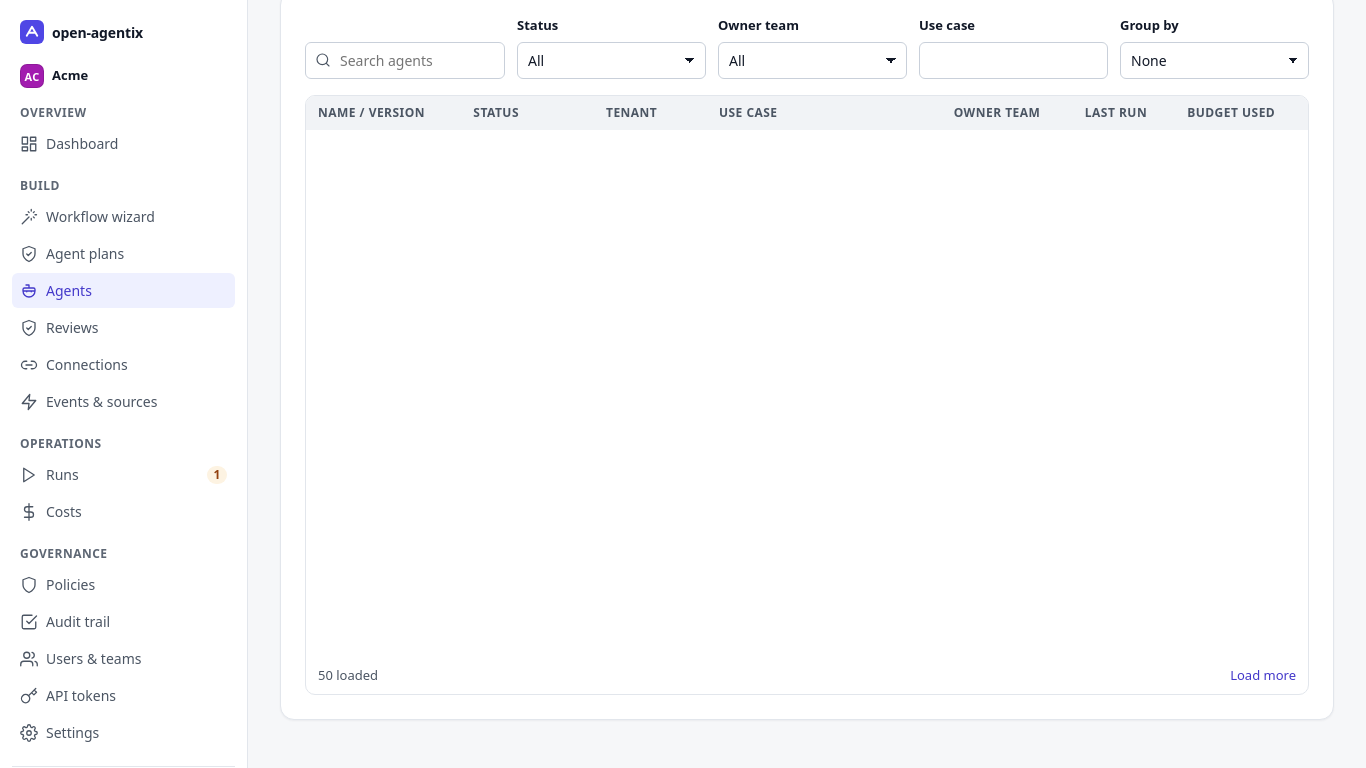
Test: agents list v2: paging, loading, empty and error states › loads more with the keyset cursor
The width and height of the screenshot is (1366, 768).
(page scrolled)
Click the button "Load more": (1263, 675) [1230,666,1296,685]
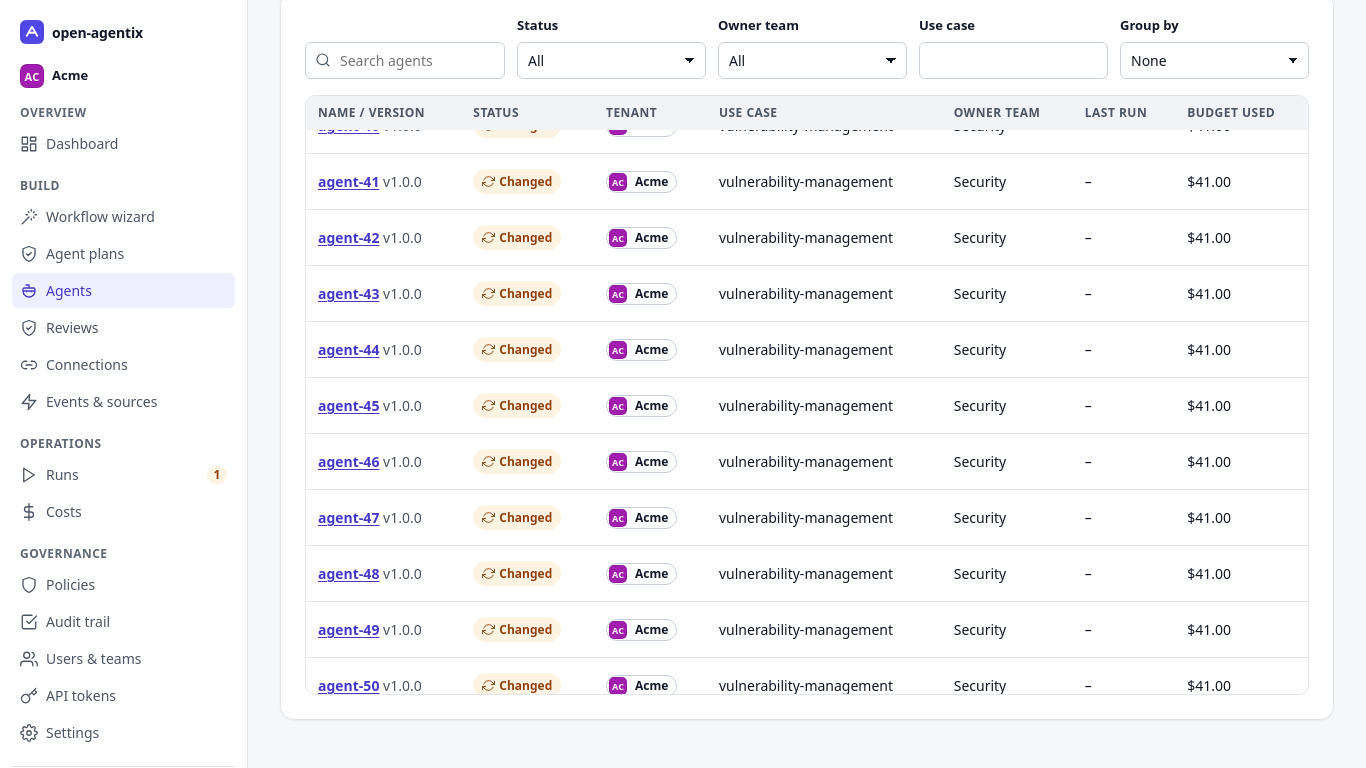
Expected: the button "Load more" is gone
